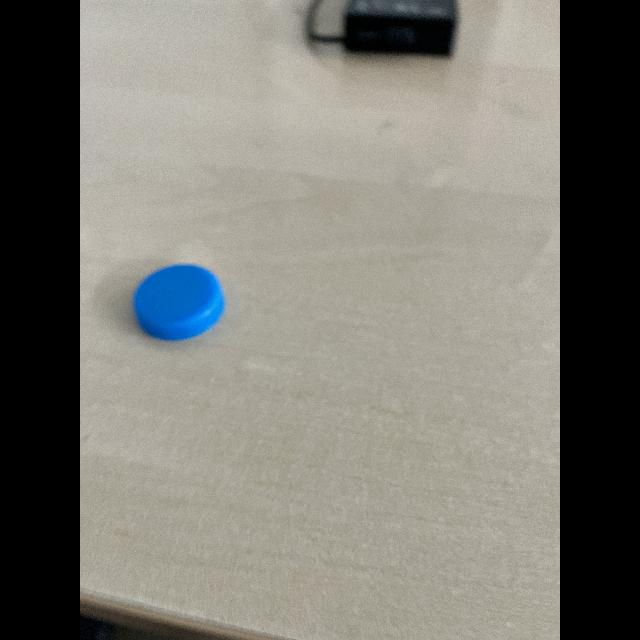plastic_bottle_cap: (118, 252, 230, 340)
